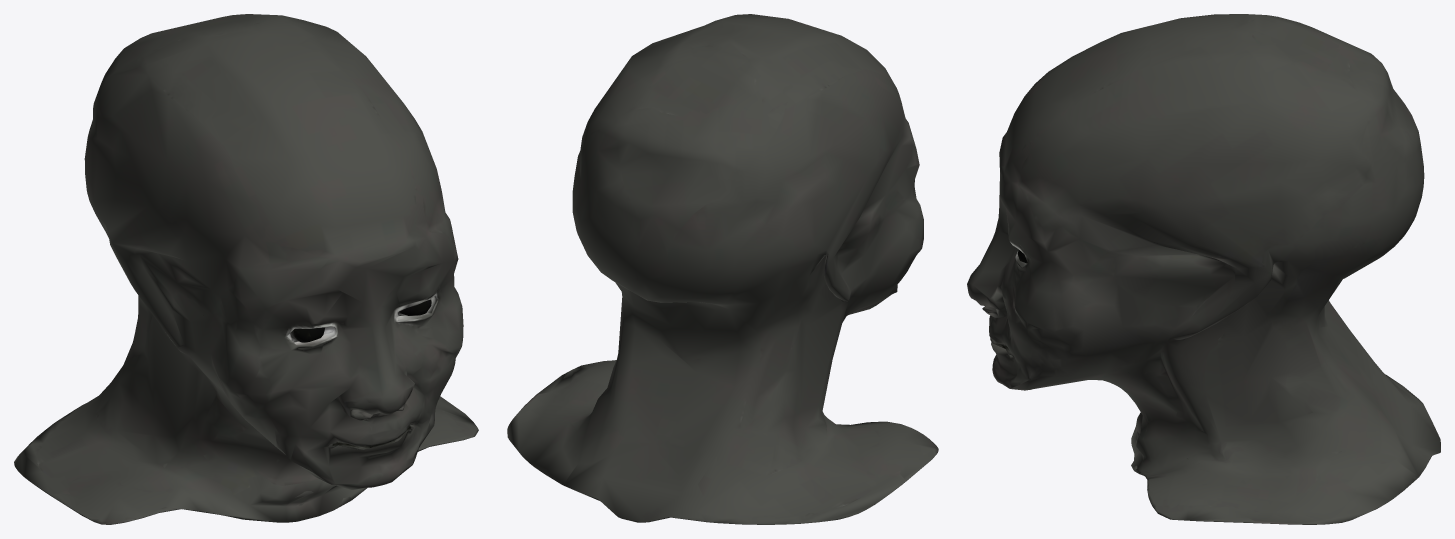
The model's file is wojak.glb.
3 renders of one model, left to right at view 1: azimuth 30°, elevation 25°; view 2: azimuth 150°, elevation 25°; view 3: azimuth 270°, elevation 25°, orthographic. The views are drawn at different scales.
Parts seen in each view (by area): view 1: node_0; view 2: node_0; view 3: node_0.
Boxes of the visible parts, <box> form: node_0: <box>14,14,478,524</box>; node_0: <box>507,14,938,524</box>; node_0: <box>967,14,1440,524</box>.
Size of the model in its own units: 0.7993 by 0.87 by 0.8703.
1 material, 1 textured.
